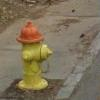Hydrant: (13, 10, 55, 89)
